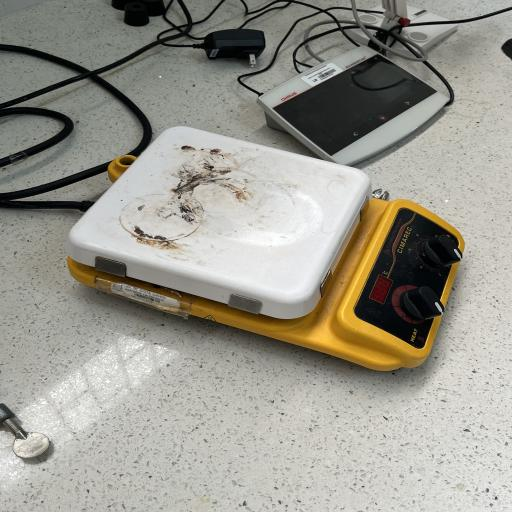Plancha_Agitacion_Cimarec: (46, 112, 472, 388)
